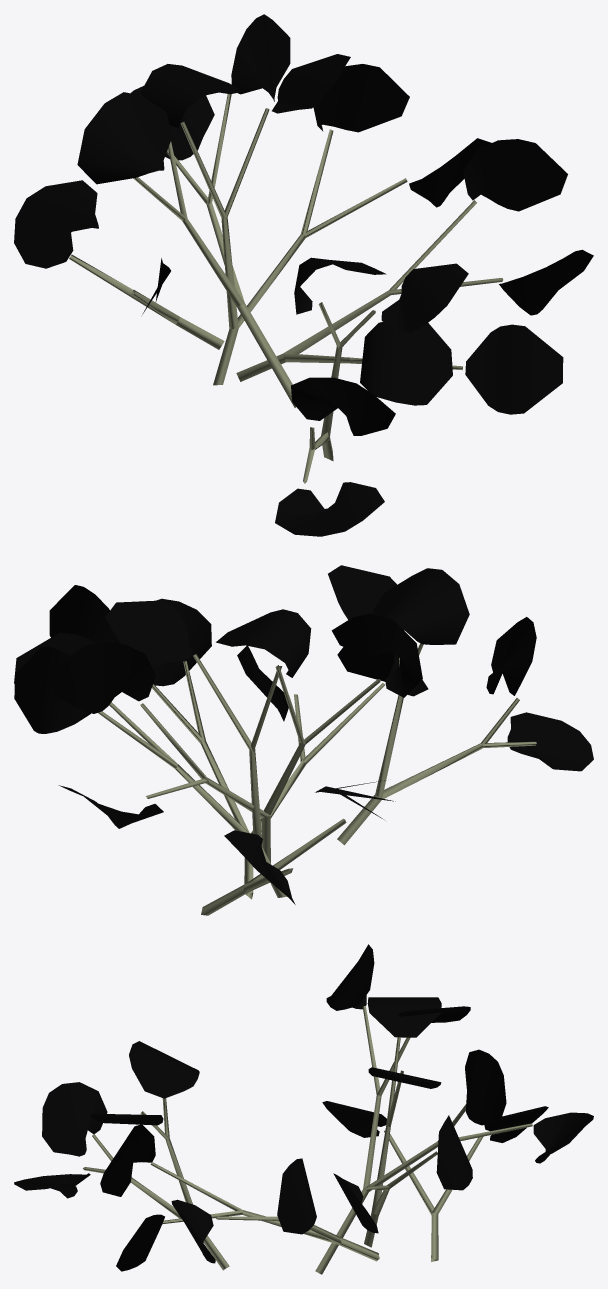
Rendered from Thing.fbx.
3 views of the same model, one above another, from view 1: azimuth 30°, elevation 25°; view 2: azimuth 150°, elevation 25°; view 3: azimuth 270°, elevation 25° (orthographic). The views are drawn at different scales.
Parts seen in each view (by area): view 1: ornamentalShrub1Leaf; view 2: ornamentalShrub1Leaf; view 3: ornamentalShrub1Leaf.
Boxes of the visible parts, x1,y1,x2,y2 form: ornamentalShrub1Leaf: (14,14,593,536); ornamentalShrub1Leaf: (14,565,593,915); ornamentalShrub1Leaf: (14,944,593,1274).
Bounding box in the file's own units: 1.04 × 0.7557 × 1.45.
